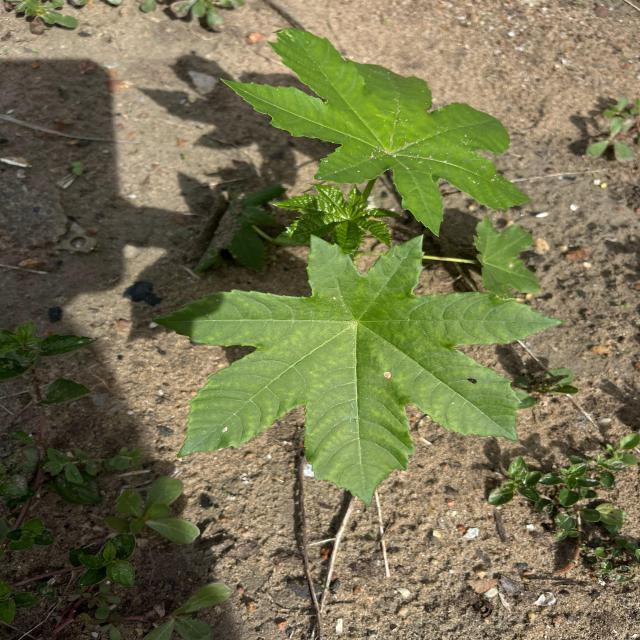Ricinus communis linn: (148, 230, 570, 510), (216, 22, 539, 241)
